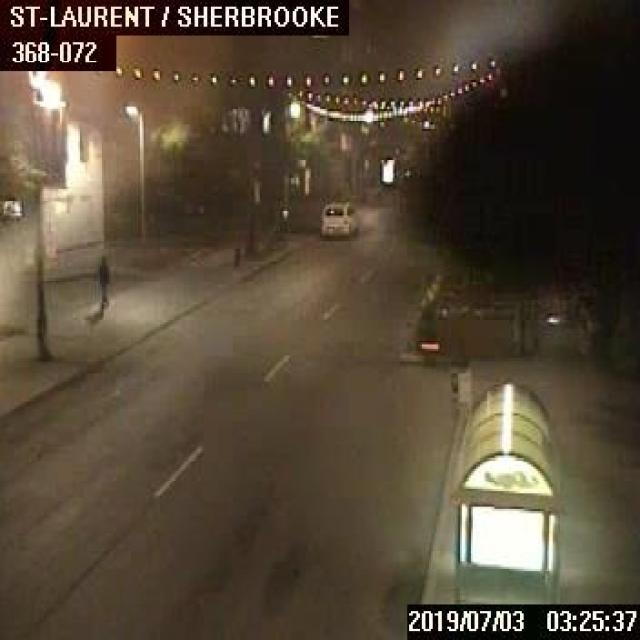pedestrian: (95, 254, 109, 314)
vehicle: (318, 200, 358, 233)
